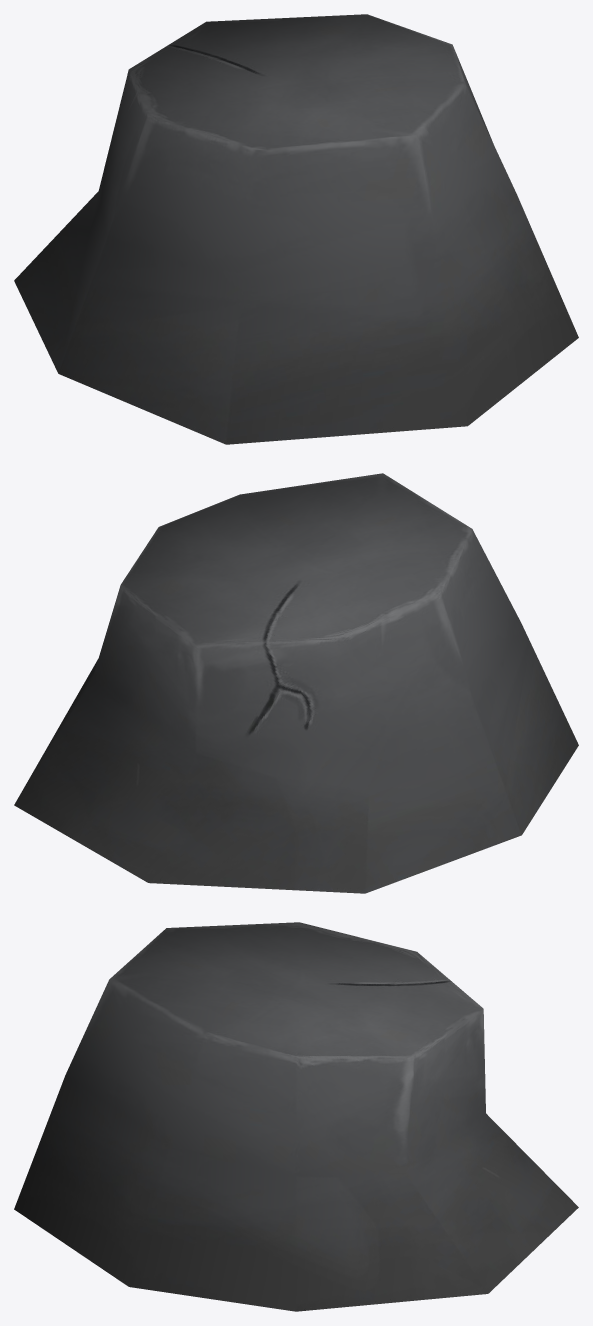
File: Rock.fbx
The picture shows the model from 3 angles, top to bottom: view 1: azimuth 30°, elevation 25°; view 2: azimuth 150°, elevation 25°; view 3: azimuth 270°, elevation 25°; orthographic projection. The views are drawn at different scales.
Visible parts, largest first — view 1: Cube; view 2: Cube; view 3: Cube.
Boxes of the visible parts, left/top/right/bottom form: Cube: left=14, top=14, right=578, bottom=444; Cube: left=14, top=473, right=578, bottom=893; Cube: left=14, top=922, right=578, bottom=1311.
Size of the model in its own units: 123 by 61.12 by 136.
Materials: 1 (1 with a texture image).
